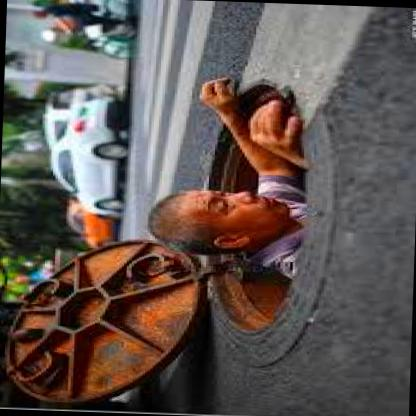manholes: (8, 59, 369, 416)
